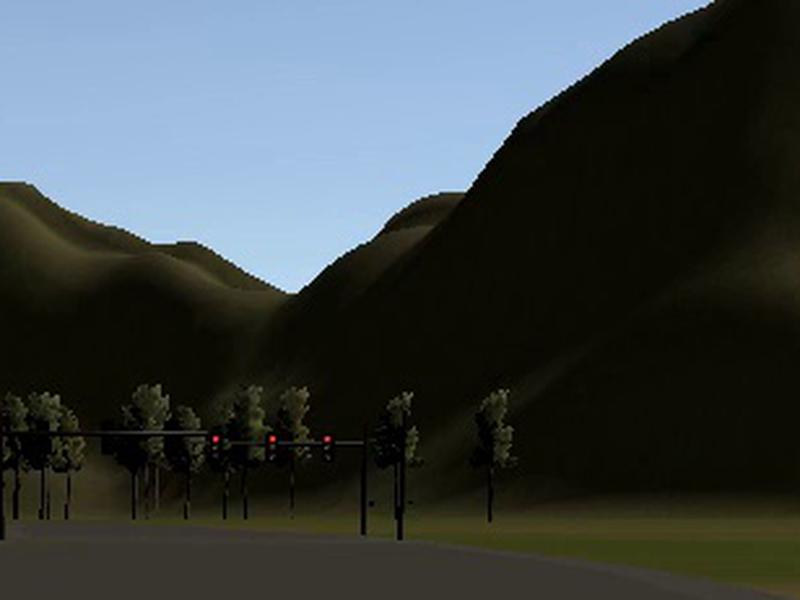Red: (321, 433, 334, 464), (207, 431, 220, 462), (265, 431, 278, 462)
